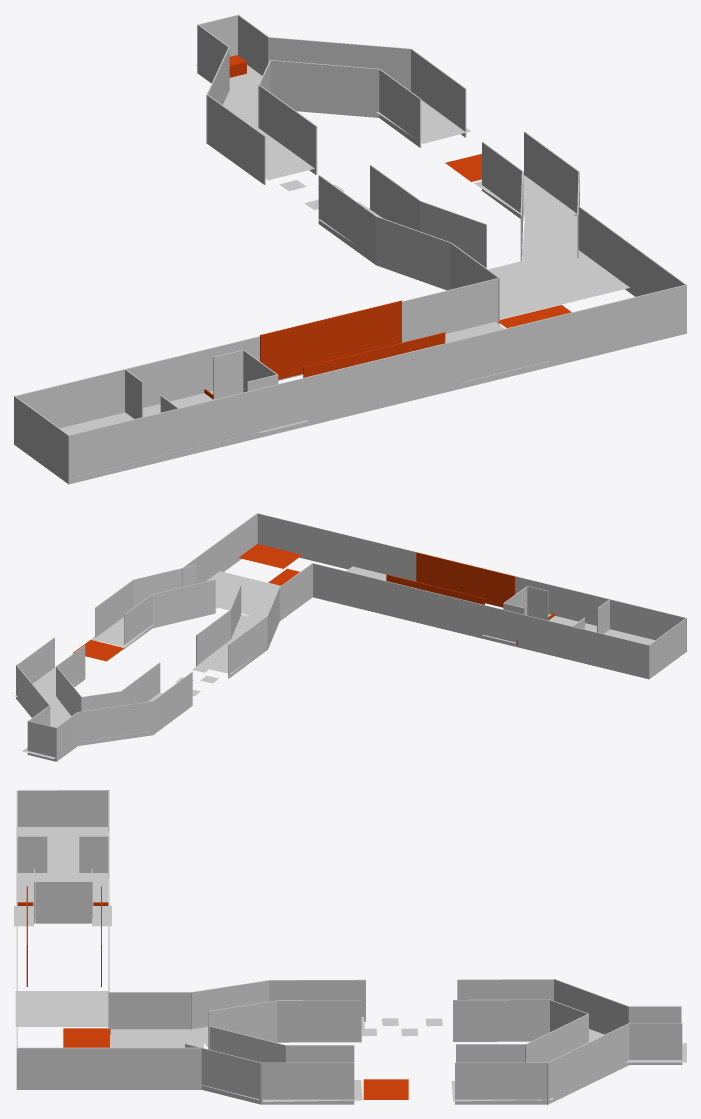
File: LevelDesign.fbx
3 renders of one model, top to bottom at view 1: azimuth 30°, elevation 25°; view 2: azimuth 150°, elevation 25°; view 3: azimuth 270°, elevation 25°, orthographic. The views are drawn at different scales.
Visible parts, largest first — view 1: Wall__6_, Wall, M_WallL, Floor__4_, Wall__25_, Wall__15_, Wall__13_, Wall__24_, Wall__26_, Wall__20_, Wall__2_, Wall__27_ (+21 smaller); view 2: Wall, Wall__6_, M_WallR, Wall__29_, Wall__17_, Wall__15_, Floor__4_, Wall__26_, Wall__20_, Wall__2_, Wall__16_, Wall__18_ (+20 smaller); view 3: Wall__15_, Wall__27_, Floor__3_, Wall__18_, Wall__22_, Wall__21_, Wall__24_, Wall__2_, Floor, Wall__12_, Wall__16_, Wall__5_ (+18 smaller).
Part boxes in pixels (<box>): Wall__6_: <box>68,284,686,484</box>; Wall: <box>15,278,498,428</box>; M_WallL: <box>260,300,401,379</box>; Floor__4_: <box>488,249,629,319</box>; Wall__25_: <box>270,60,379,117</box>; Wall__15_: <box>578,206,686,296</box>; Wall__13_: <box>375,216,450,290</box>; Wall__24_: <box>268,37,412,90</box>; Wall__26_: <box>207,95,265,184</box>; Wall__20_: <box>318,175,376,264</box>; Wall__2_: <box>14,396,69,484</box>; Wall__27_: <box>259,85,317,174</box>; Wall: <box>313,563,648,678</box>; Wall__6_: <box>257,513,686,651</box>; M_WallR: <box>416,552,515,607</box>; Wall__29_: <box>78,701,153,745</box>; Wall__17_: <box>152,579,215,628</box>; Wall__15_: <box>182,513,257,586</box>; Floor__4_: <box>206,571,280,618</box>; Wall__26_: <box>153,672,192,734</box>; Wall__20_: <box>228,616,267,678</box>; Wall__2_: <box>648,618,686,679</box>; Wall__16_: <box>133,565,196,607</box>; Wall__18_: <box>95,580,133,640</box>; Wall__15_: <box>16,1047,201,1089</box>; Wall__27_: <box>453,999,549,1041</box>; Floor__3_: <box>16,827,107,917</box>; Wall__18_: <box>260,1062,354,1104</box>; Wall__22_: <box>455,1062,548,1104</box>; Wall__21_: <box>277,1000,361,1042</box>; Wall__24_: <box>547,1023,629,1104</box>; Wall__2_: <box>17,790,109,831</box>; Floor: <box>15,991,108,1026</box>; Wall__12_: <box>108,992,191,1034</box>; Wall__16_: <box>185,1043,261,1104</box>; Wall__5_: <box>35,881,92,923</box>.
Size of the model in its own units: 10731 by 841 by 11088.
